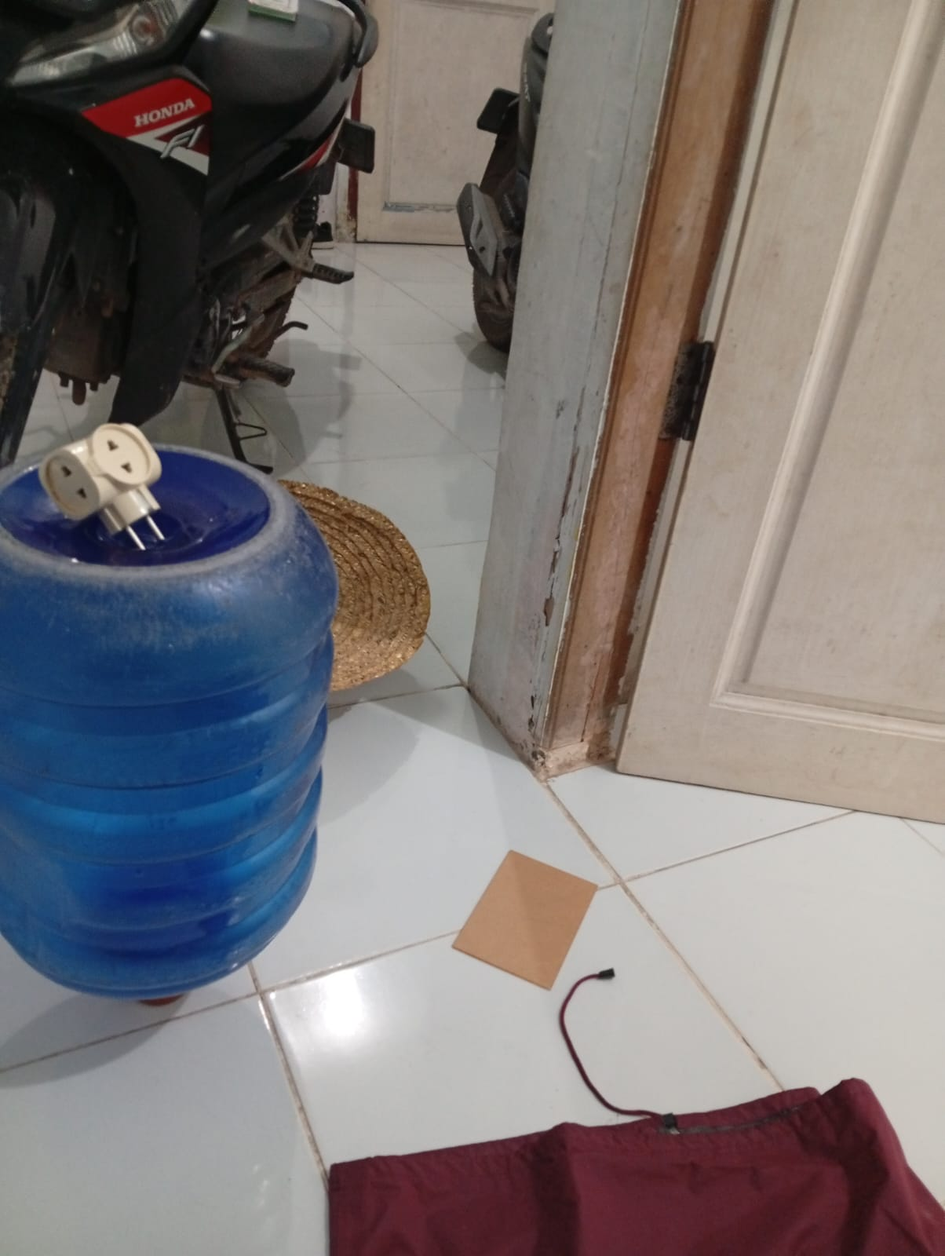Colokan: (18, 396, 198, 554)
